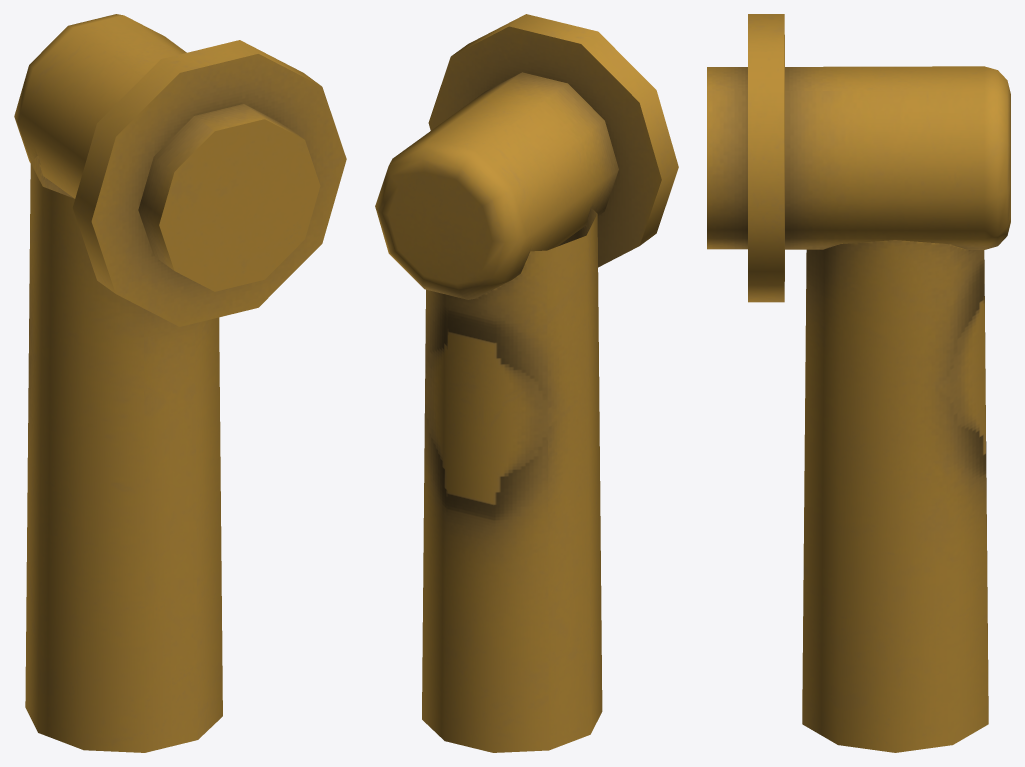
Rendered from jiqiren_rjxz.fbx.
3 views of the same model, side by side, from view 1: azimuth 30°, elevation 25°; view 2: azimuth 150°, elevation 25°; view 3: azimuth 270°, elevation 25° (orthographic). The views are drawn at different scales.
Parts seen in each view (by area): view 1: jiqiren_rjxz; view 2: jiqiren_rjxz; view 3: jiqiren_rjxz.
Part boxes in pixels (box(x1,y1,x2,y2)): jiqiren_rjxz: box(14, 14, 346, 752); jiqiren_rjxz: box(375, 14, 678, 752); jiqiren_rjxz: box(707, 14, 1010, 752).
Bounding box in the file's own units: 22.83 × 59.66 × 23.86.
